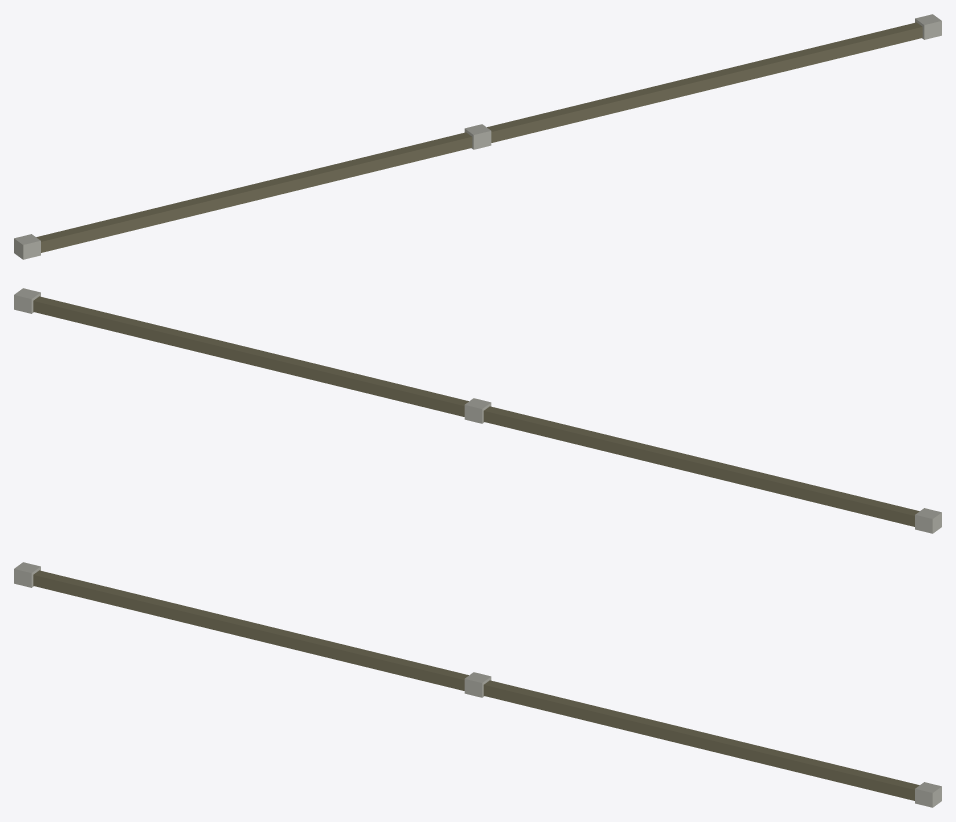
The model's file is SM_Manguera_v0_Recta_LOD0.fbx.
The picture shows the model from 3 angles, top to bottom: view 1: azimuth 30°, elevation 25°; view 2: azimuth 150°, elevation 25°; view 3: azimuth 330°, elevation 25°; orthographic projection.
Visible parts, largest first — view 1: SM_farp_betera_v5_LOD0; view 2: SM_farp_betera_v5_LOD0; view 3: SM_farp_betera_v5_LOD0.
Part boxes in pixels (box(x1,y1,x2,y2)): SM_farp_betera_v5_LOD0: box(14, 14, 941, 259); SM_farp_betera_v5_LOD0: box(14, 288, 941, 533); SM_farp_betera_v5_LOD0: box(14, 562, 941, 807).
Size of the model in its own units: 10.4 by 0.16 by 0.18.
